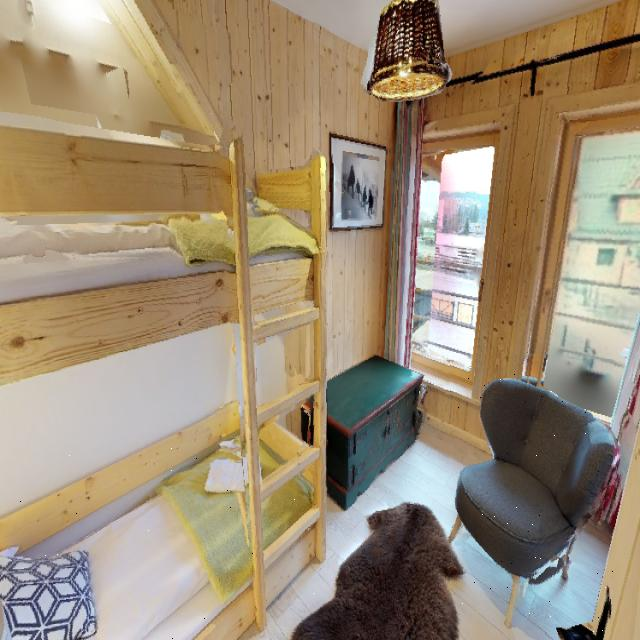bed: (0, 407, 354, 640)
sofa: (450, 360, 614, 634)
